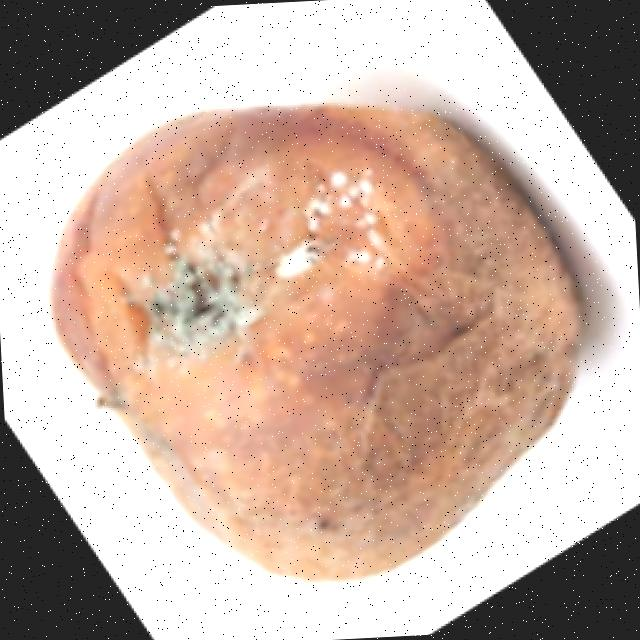Rotten: (28, 82, 603, 604)
